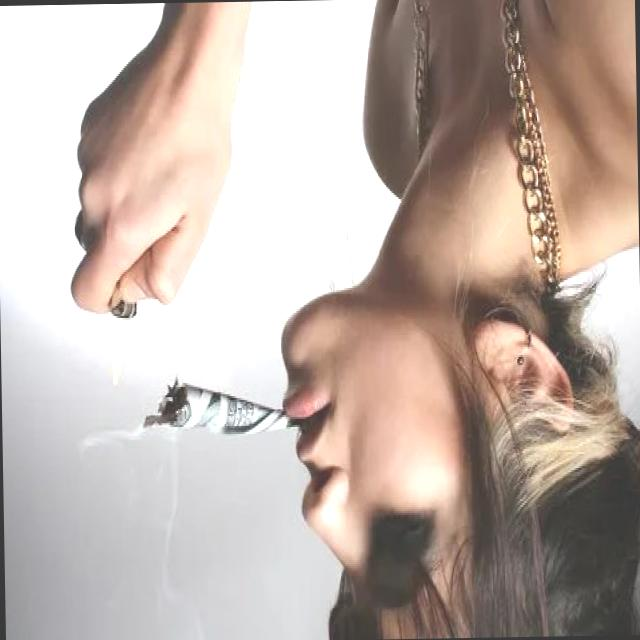smoke: (146, 370, 297, 445)
